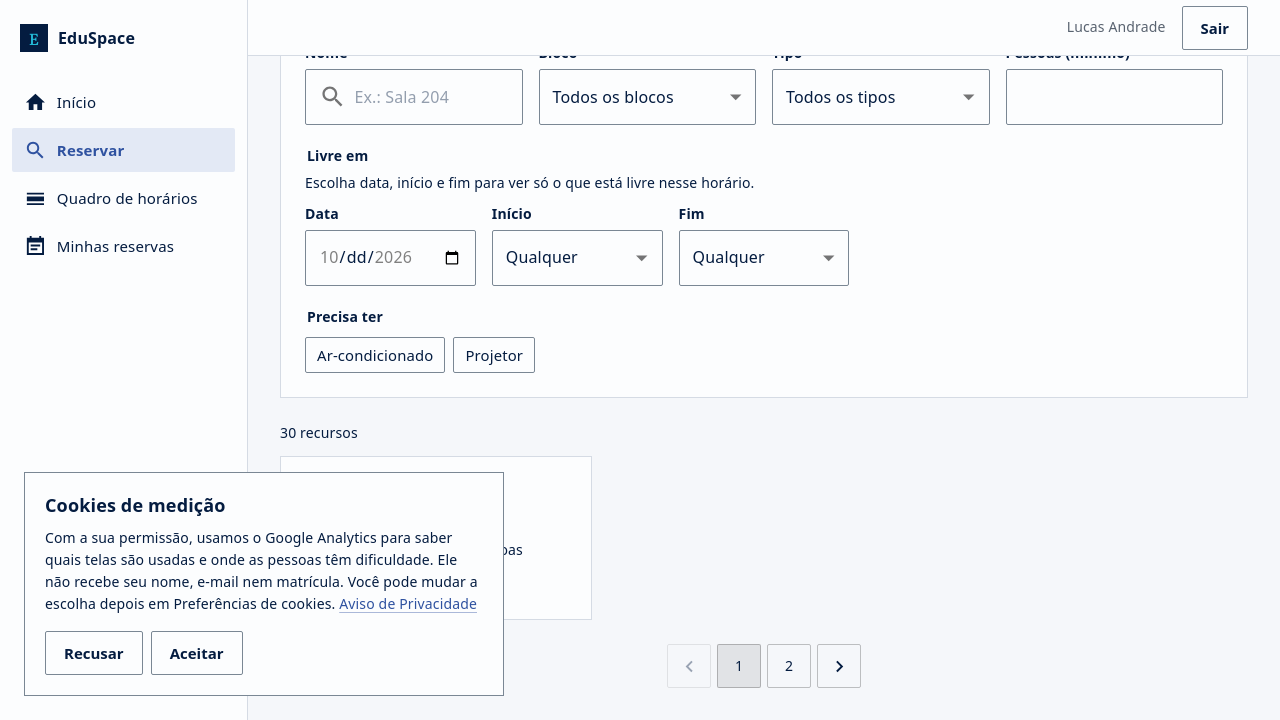
reserve page (catalog list) › paginates long lists
(page scrolled)
Expected: the link "Sala de estudo 204" is shown, x1=280 y1=456 x2=592 y2=620
What coordinates should you click on to do the following:
click the button named "Página 2"
I would click on:
 (789, 666)
Its box is x1=767 y1=644 x2=811 y2=688.
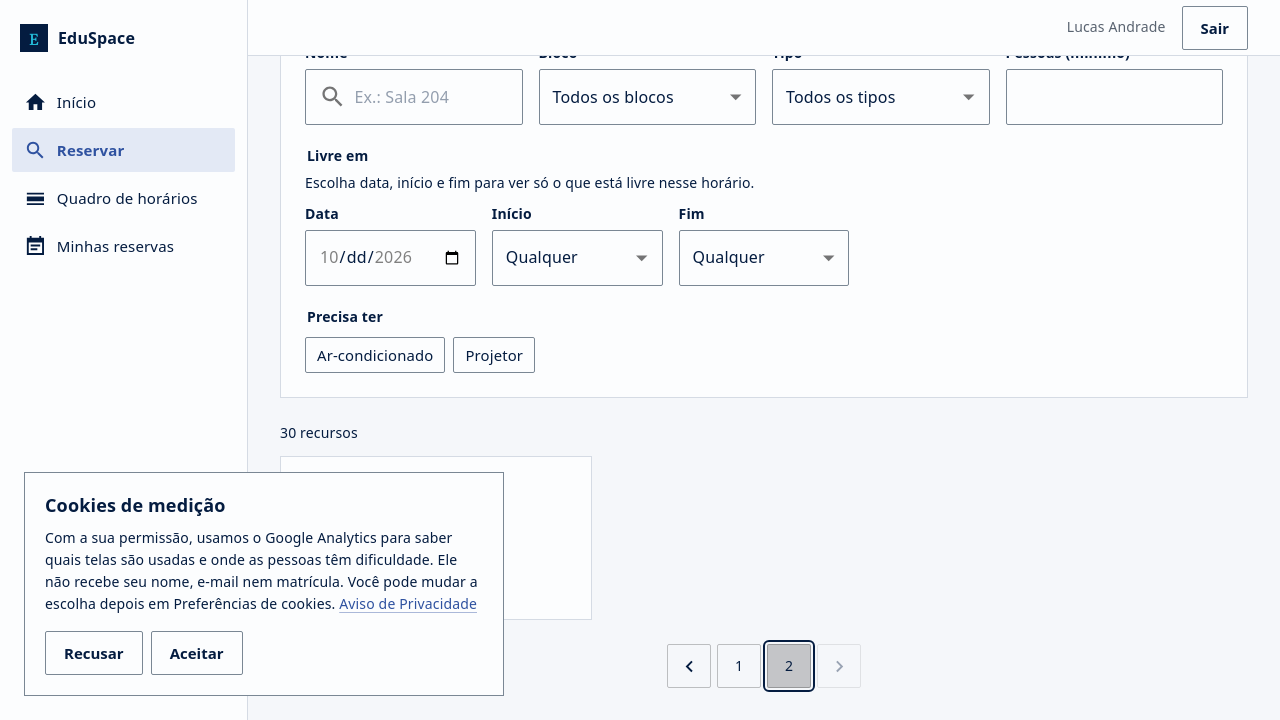
Expected: the link "Equipamento Projetor Epson 01 Bloco D Projetor" is shown, x1=280 y1=456 x2=592 y2=620
